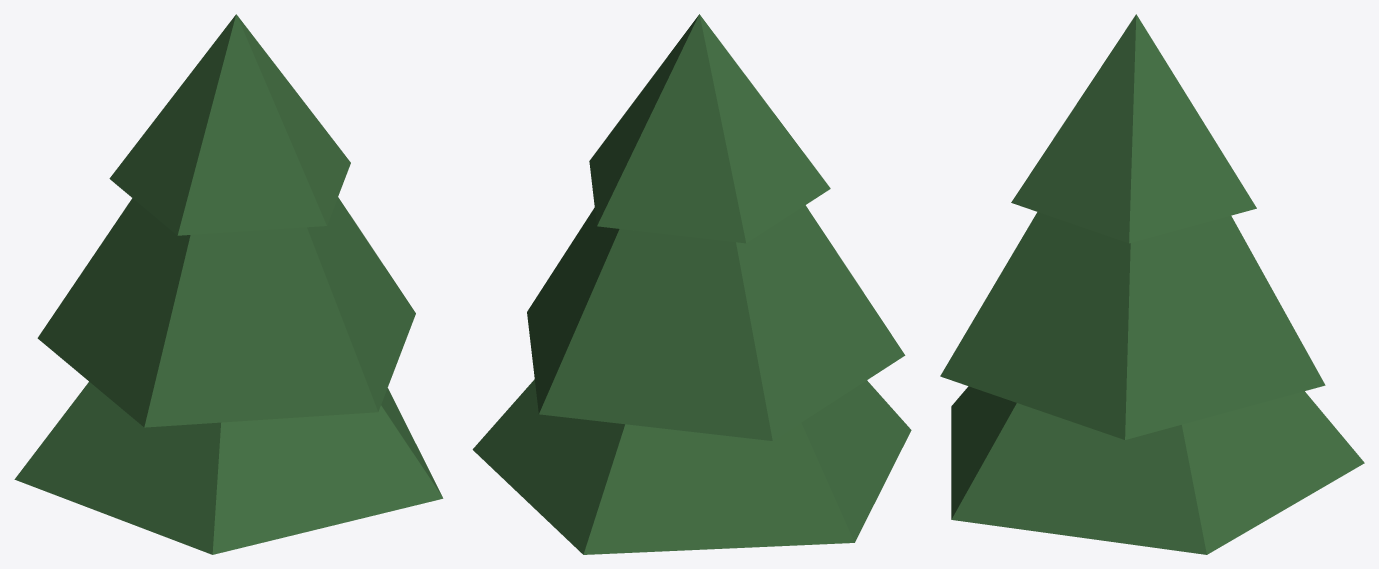
The model's file is tree_03.fbx.
The picture shows the model from 3 angles, left to right: view 1: azimuth 30°, elevation 25°; view 2: azimuth 150°, elevation 25°; view 3: azimuth 270°, elevation 25°; orthographic projection. The views are drawn at different scales.
Visible parts, largest first — view 1: Cube; view 2: Cube; view 3: Cube.
Part boxes in pixels (box(x1,y1,x2,y2)): Cube: box(14, 14, 443, 554); Cube: box(472, 14, 911, 554); Cube: box(940, 14, 1364, 554).
Size of the model in its own units: 701 by 903 by 685.
